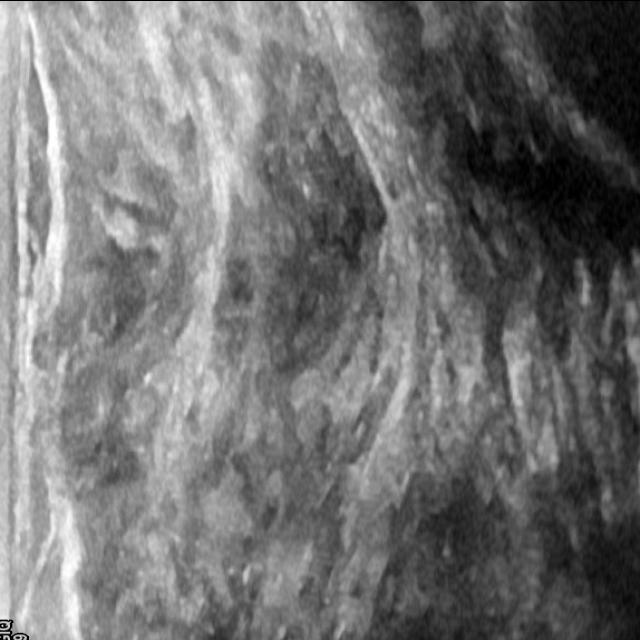Normal: (25, 29, 615, 614)
